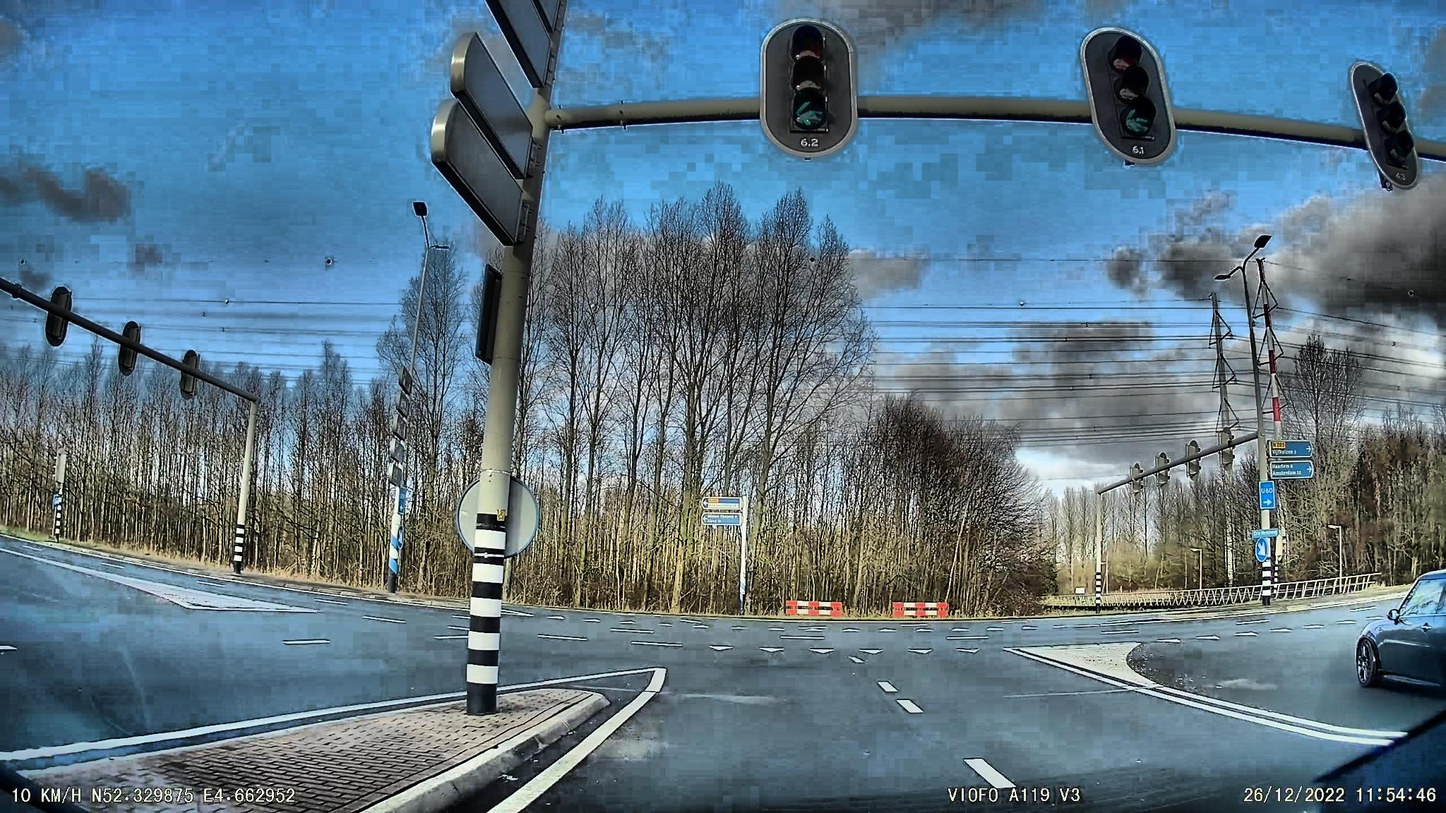Roads: (0, 538, 1446, 813)
